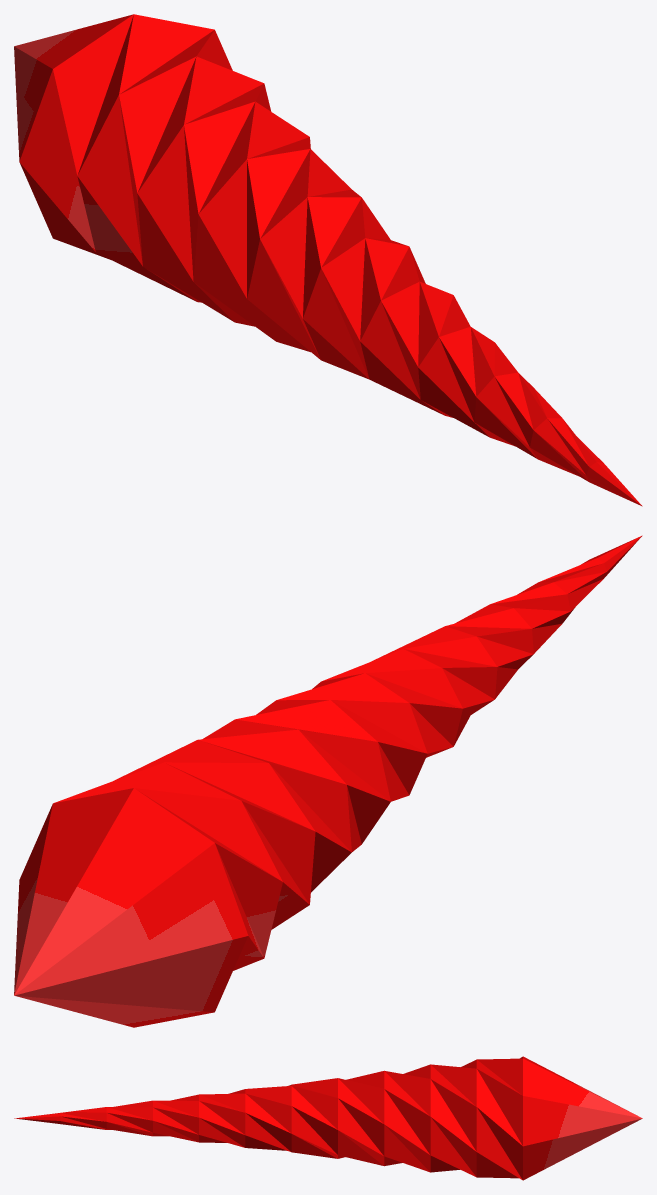
Rendered from bullet.obj.
3 views of the same model, one above another, from view 1: azimuth 30°, elevation 25°; view 2: azimuth 150°, elevation 25°; view 3: azimuth 270°, elevation 25° (orthographic). The views are drawn at different scales.
Parts seen in each view (by area): view 1: 平面; view 2: 平面; view 3: 平面.
Part boxes in pixels (<box>): 平面: <box>14,14,642,506</box>; 平面: <box>14,535,642,1027</box>; 平面: <box>14,1056,642,1180</box>.
Size of the model in its own units: 0.3937 by 0.3937 by 1.87.
1 material, 1 textured.
